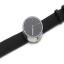watch: (21, 15, 46, 44)
